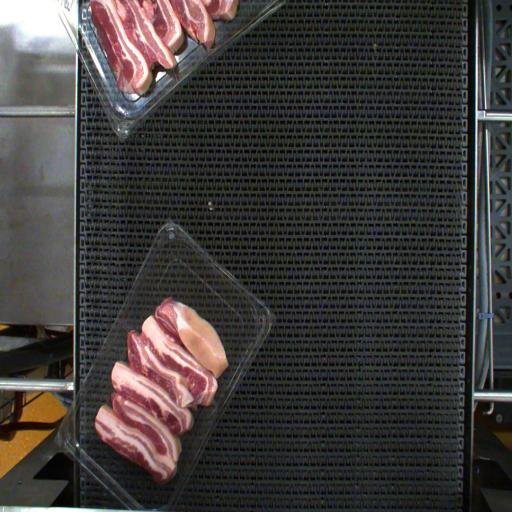twisted-meat: (168, 288, 228, 377)
